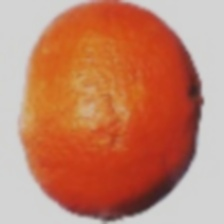tangerine: (39, 16, 202, 192)
